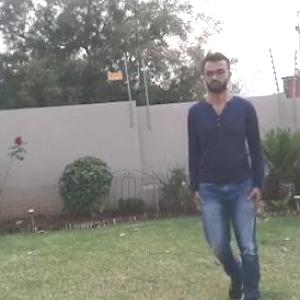follow: (182, 52, 262, 299)
